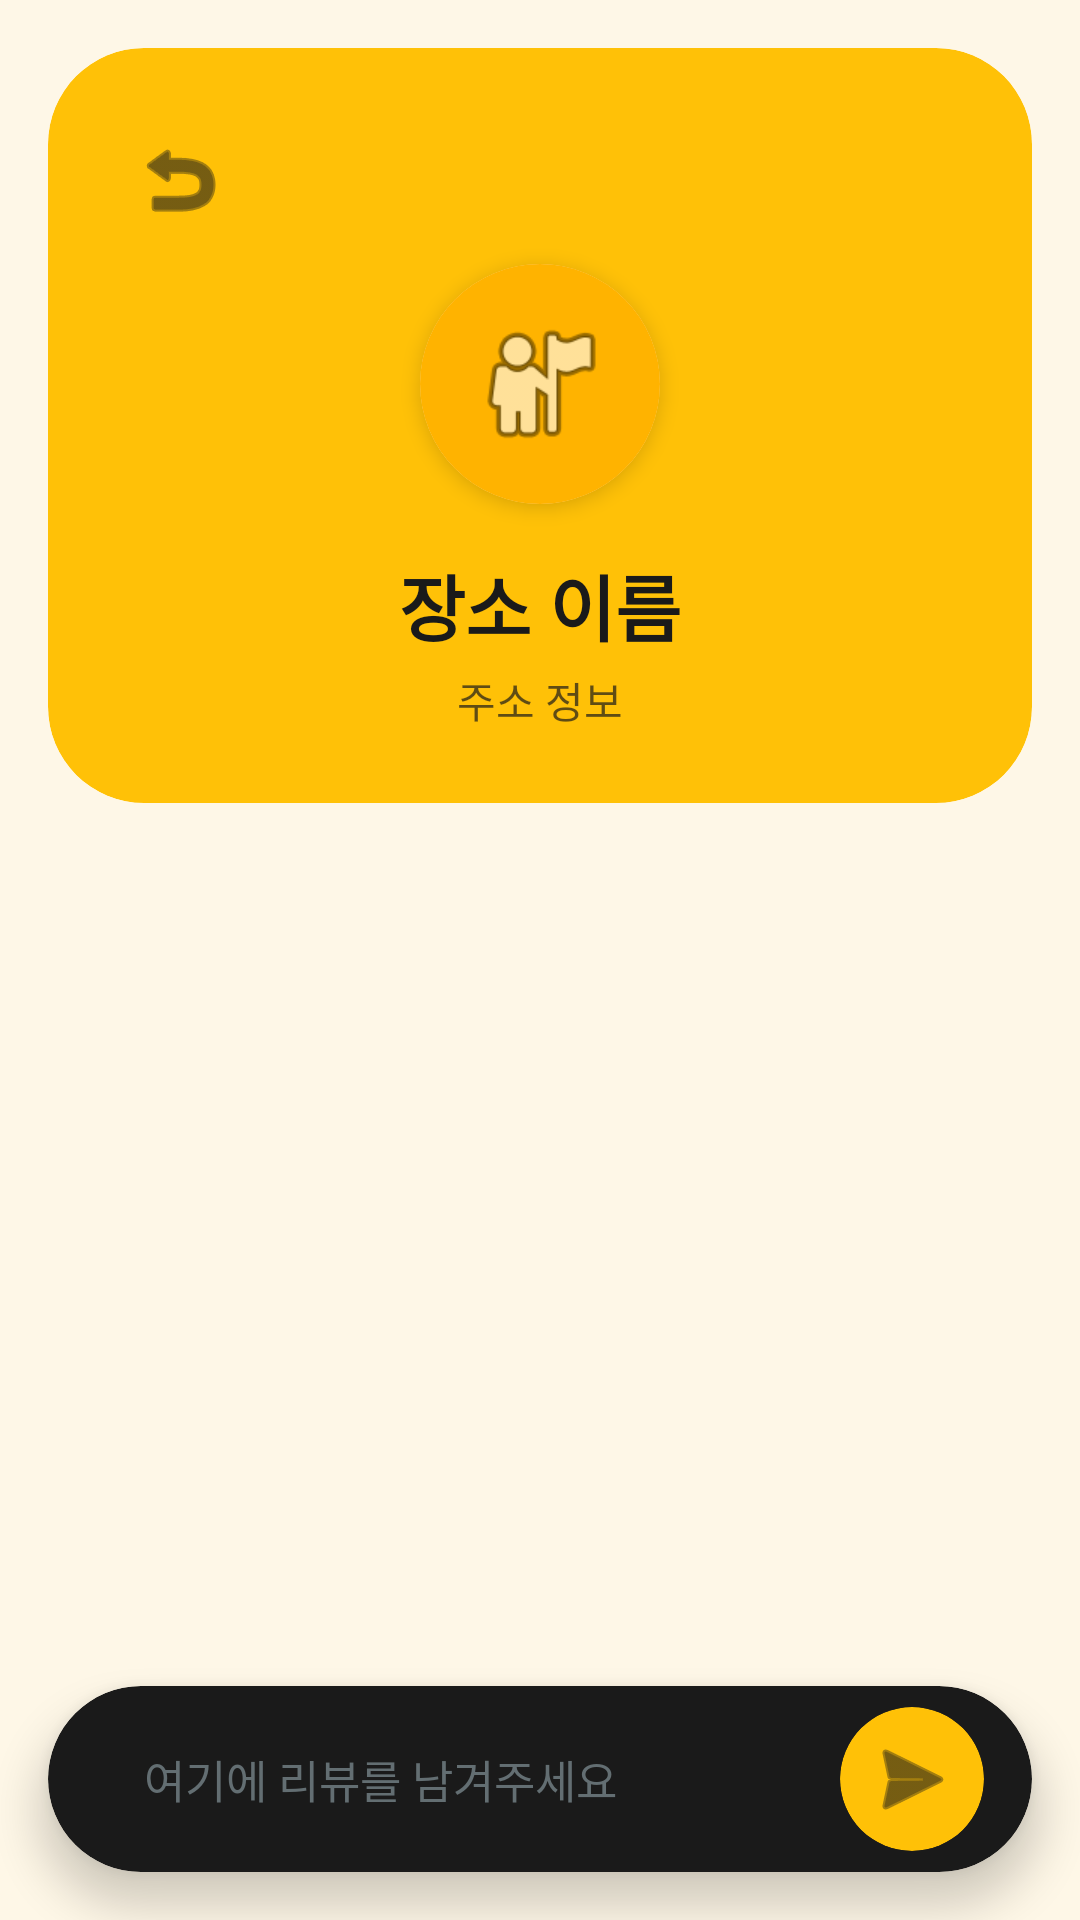

Locate icon controls on the screen. Image size 1080x1920, boxes as (x1, y1, x2, y2).
myplaces: (420, 264, 660, 504)
뒤로가기: (147, 149, 216, 212)
전송: (840, 1707, 984, 1851)
